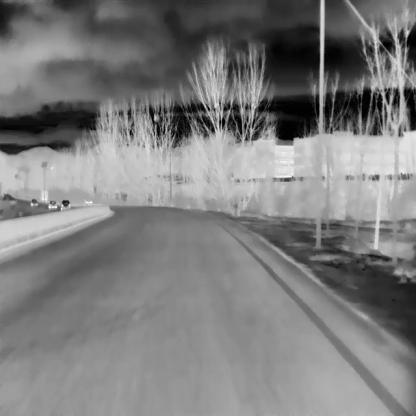car: (60, 199, 70, 210), (48, 199, 57, 208), (29, 197, 37, 205)
